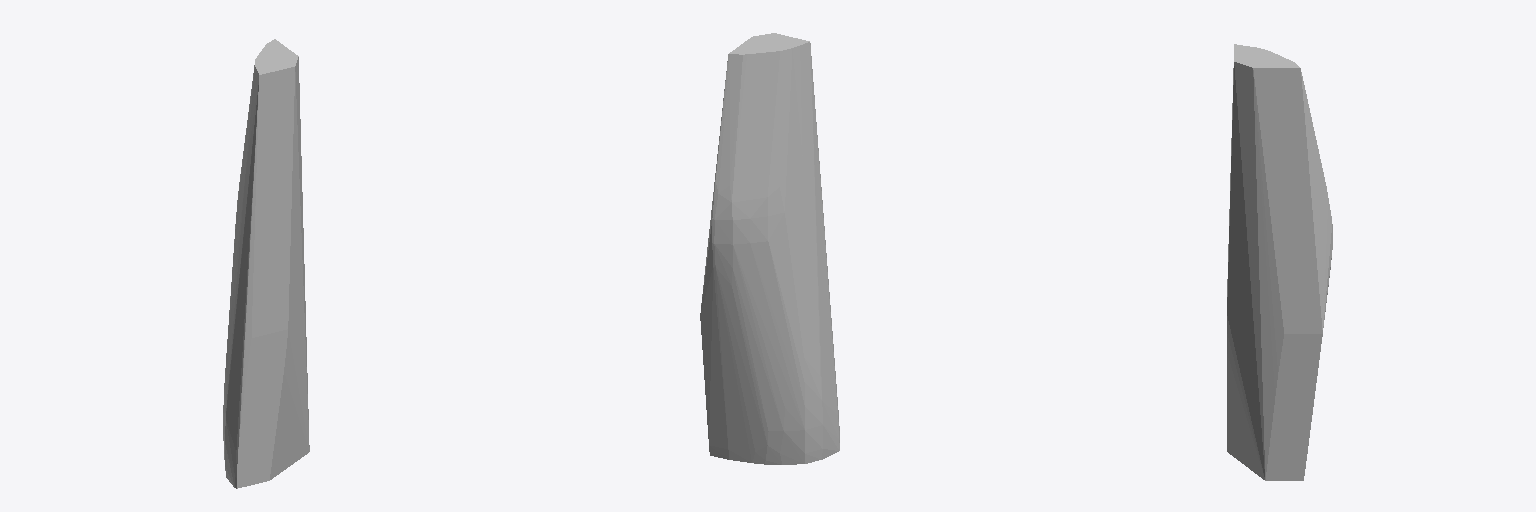
The model's file is phantom-elastrat_collision_383.obj.
3 views of the same model, side by side, from view 1: azimuth 30°, elevation 25°; view 2: azimuth 150°, elevation 25°; view 3: azimuth 270°, elevation 25° (orthographic).
Size of the model in its own units: 0.0047 by 0.0195 by 0.0046.